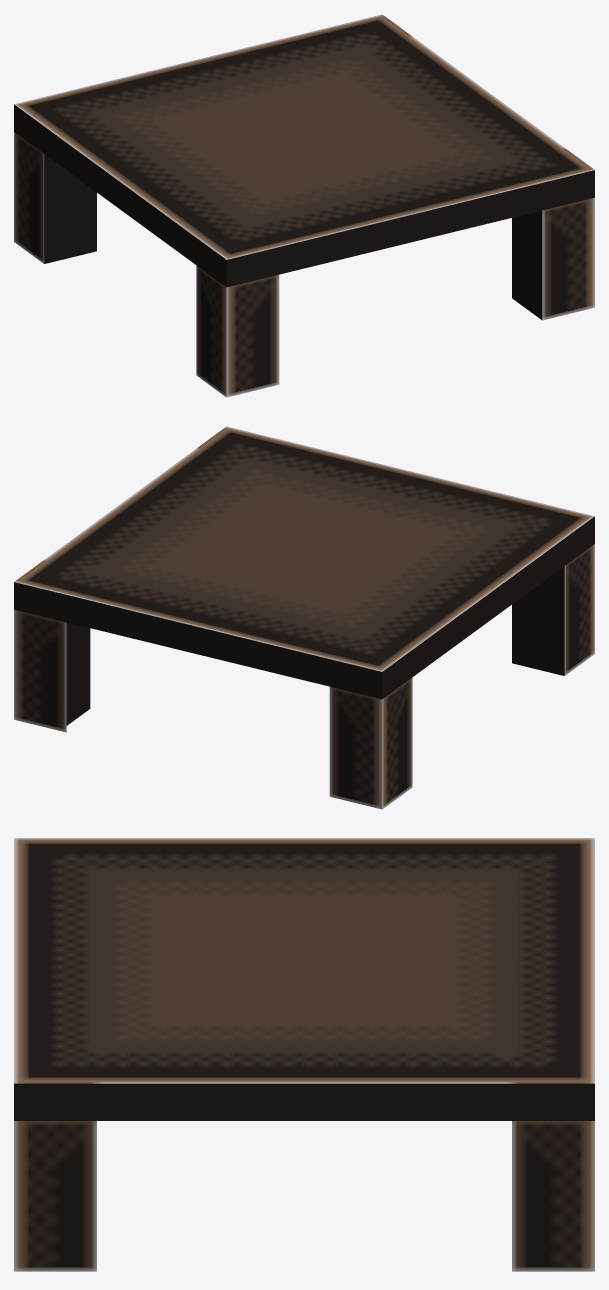
The model's file is lowTable.obj.
3 renders of one model, top to bottom at view 1: azimuth 30°, elevation 25°; view 2: azimuth 150°, elevation 25°; view 3: azimuth 270°, elevation 25°, orthographic. The views are drawn at different scales.
Parts seen in each view (by area): view 1: Default; view 2: Default; view 3: Default.
Part boxes in pixels (box(x1,y1,x2,y2)): Default: box(14, 14, 594, 397); Default: box(14, 426, 594, 809); Default: box(14, 838, 594, 1271).
Bounding box in the file's own units: 3.56 × 1.25 × 3.5.
